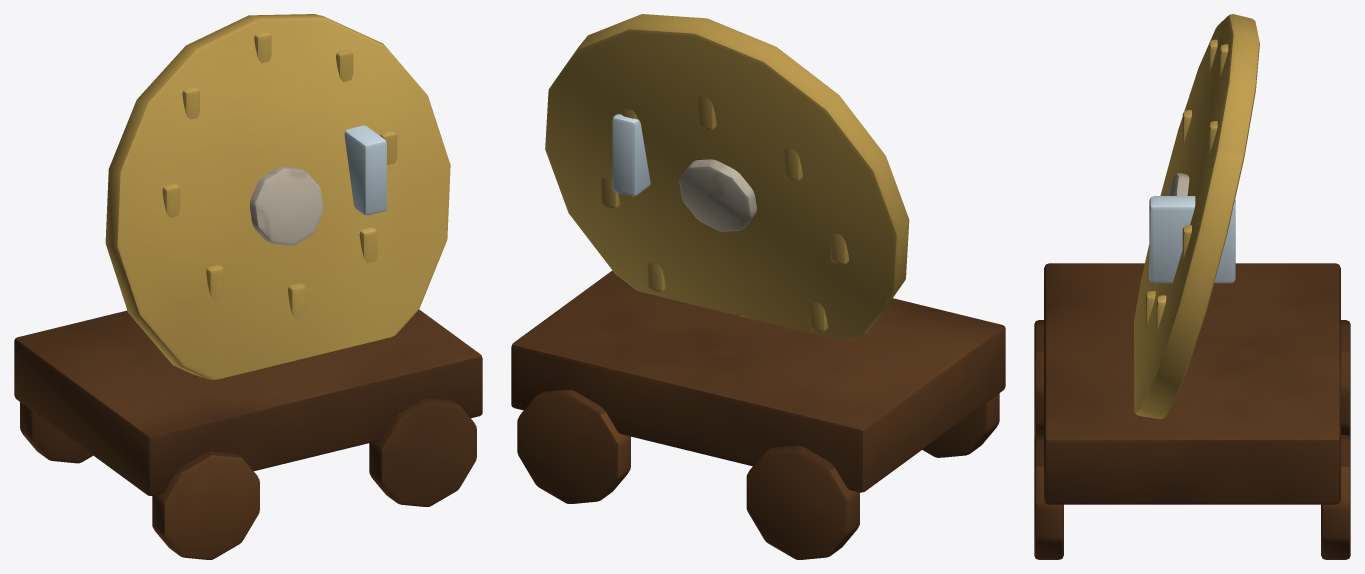
Rendered from unit_church_solar_engine.fbx.
The picture shows the model from 3 angles, left to right: view 1: azimuth 30°, elevation 25°; view 2: azimuth 150°, elevation 25°; view 3: azimuth 270°, elevation 25°; orthographic projection. The views are drawn at different scales.
Parts seen in each view (by area): view 1: unit_church_solar_engine; view 2: unit_church_solar_engine; view 3: unit_church_solar_engine.
Boxes of the visible parts, x1,y1,x2,y2 form: unit_church_solar_engine: (14,14,482,559); unit_church_solar_engine: (511,14,1005,559); unit_church_solar_engine: (1034,14,1350,559).
Size of the model in its own units: 1.85 by 2.14 by 1.28.
